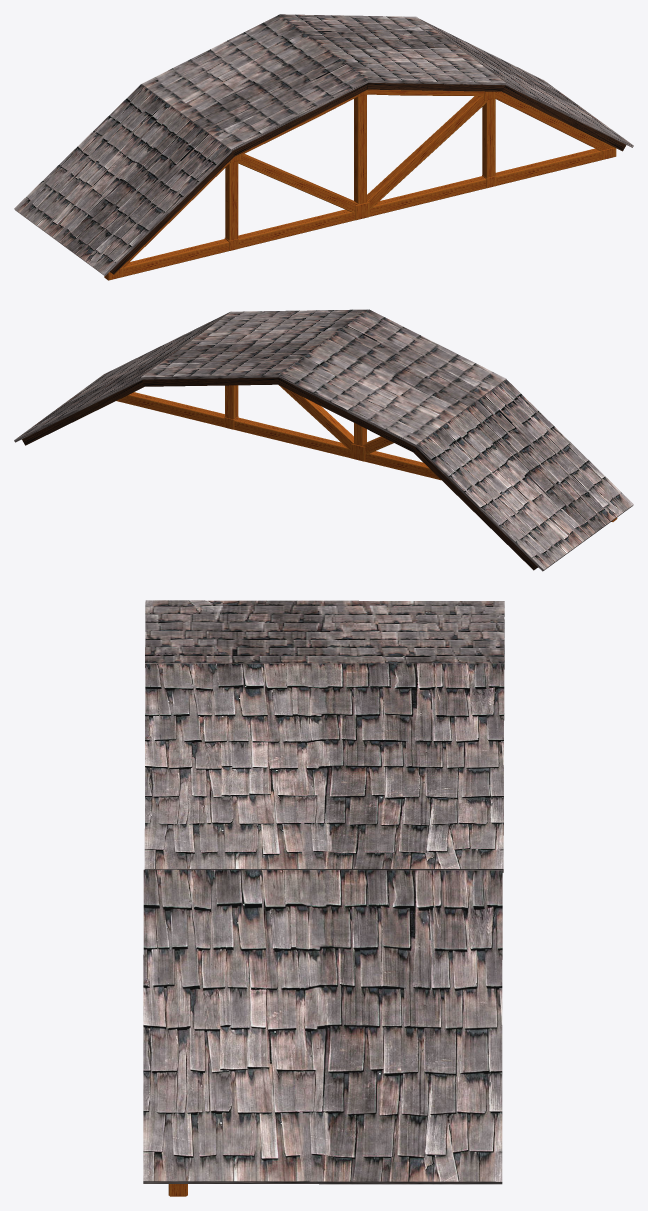
The model's file is roof2.dae.
3 renders of one model, top to bottom at view 1: azimuth 30°, elevation 25°; view 2: azimuth 150°, elevation 25°; view 3: azimuth 270°, elevation 25°, orthographic. The views are drawn at different scales.
Parts seen in each view (by area): view 1: polySurface29, polySurface30, EF, CE, EG, BE, AC, GH, DE, FH, BC, FG (+1 smaller); view 2: polySurface29, polySurface30, EG, GH, EF, CE, FG; view 3: polySurface29.
Part boxes in pixels (x1=…): polySurface29: x1=14, y1=14, x2=633, y2=275; polySurface30: x1=110, y1=83, x2=626, y2=274; EF: x1=366, y1=95, x2=486, y2=209; CE: x1=238, y1=209, x2=355, y2=248; EG: x1=369, y1=176, x2=486, y2=216; BE: x1=238, y1=154, x2=358, y2=212; AC: x1=104, y1=239, x2=228, y2=280; GH: x1=495, y1=148, x2=615, y2=185; DE: x1=354, y1=95, x2=366, y2=204; FH: x1=495, y1=91, x2=614, y2=151; BC: x1=225, y1=161, x2=238, y2=240; FG: x1=482, y1=98, x2=495, y2=177; polySurface29: x1=14, y1=309, x2=633, y2=571; polySurface30: x1=22, y1=377, x2=537, y2=570; EG: x1=234, y1=417, x2=350, y2=458; GH: x1=118, y1=392, x2=224, y2=427; EF: x1=279, y1=385, x2=353, y2=450; CE: x1=365, y1=451, x2=441, y2=480; FG: x1=225, y1=385, x2=238, y2=419; polySurface29: x1=143, y1=600, x2=504, y2=1184.
Size of the model in its own units: 16.74 by 4.32 by 4.95.
